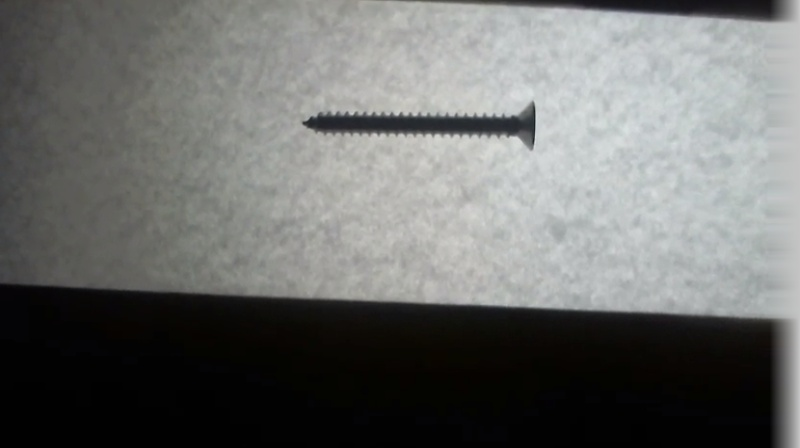S002: (299, 96, 539, 153)
